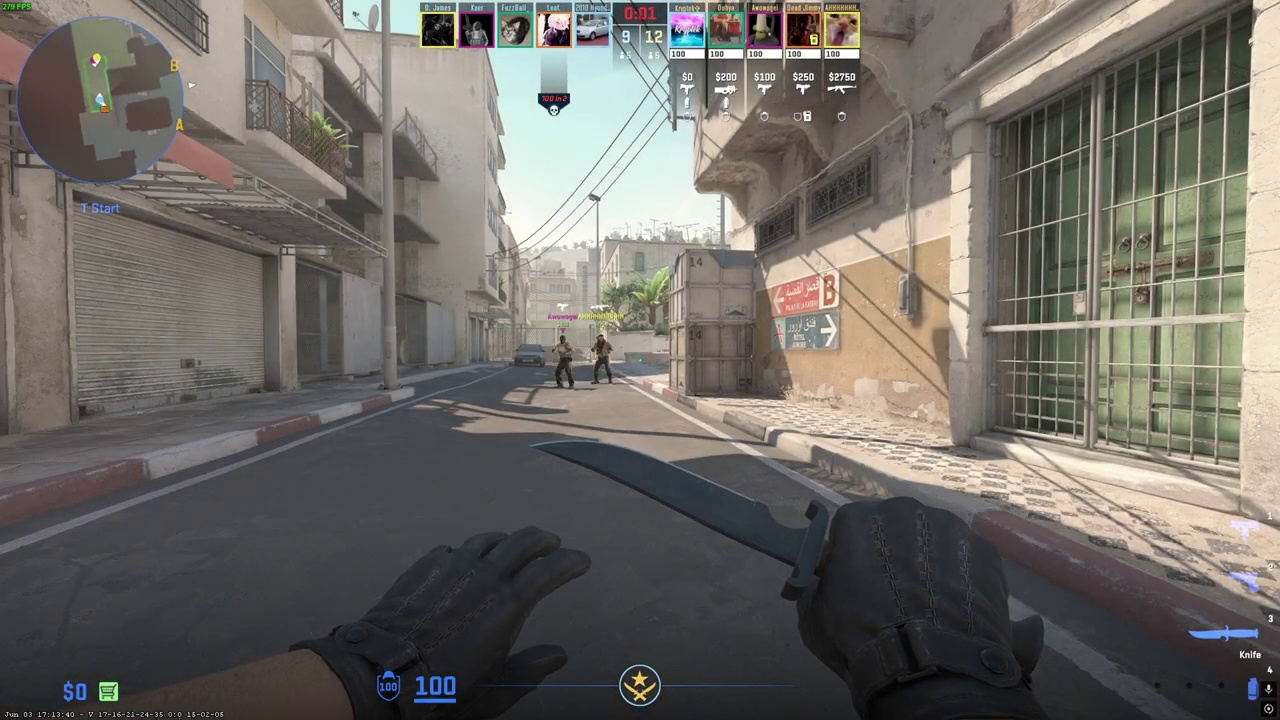Terrorist: (554, 335, 574, 389), (591, 335, 613, 384)
